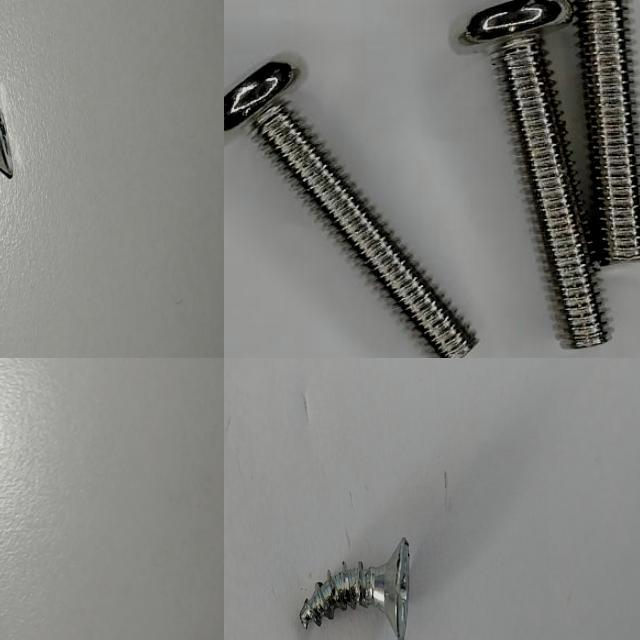Screw: (224, 62, 478, 358), (463, 0, 610, 348), (465, 0, 610, 348), (577, 0, 640, 264), (300, 536, 410, 640)
